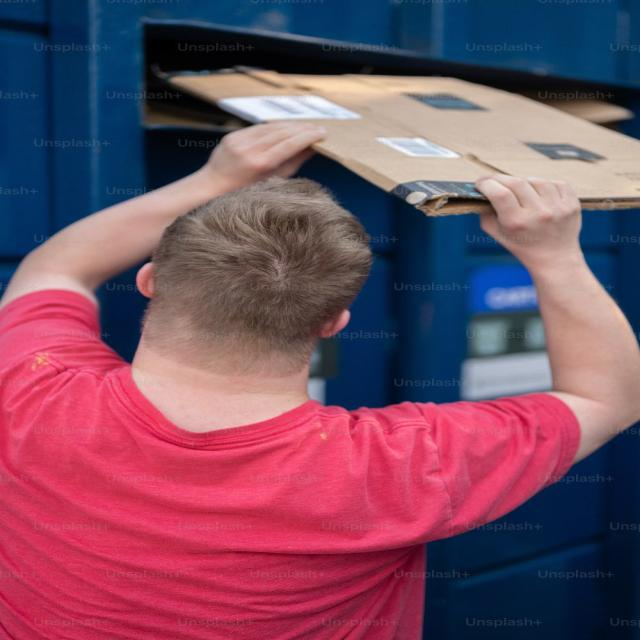cardboard: (159, 31, 629, 219)
